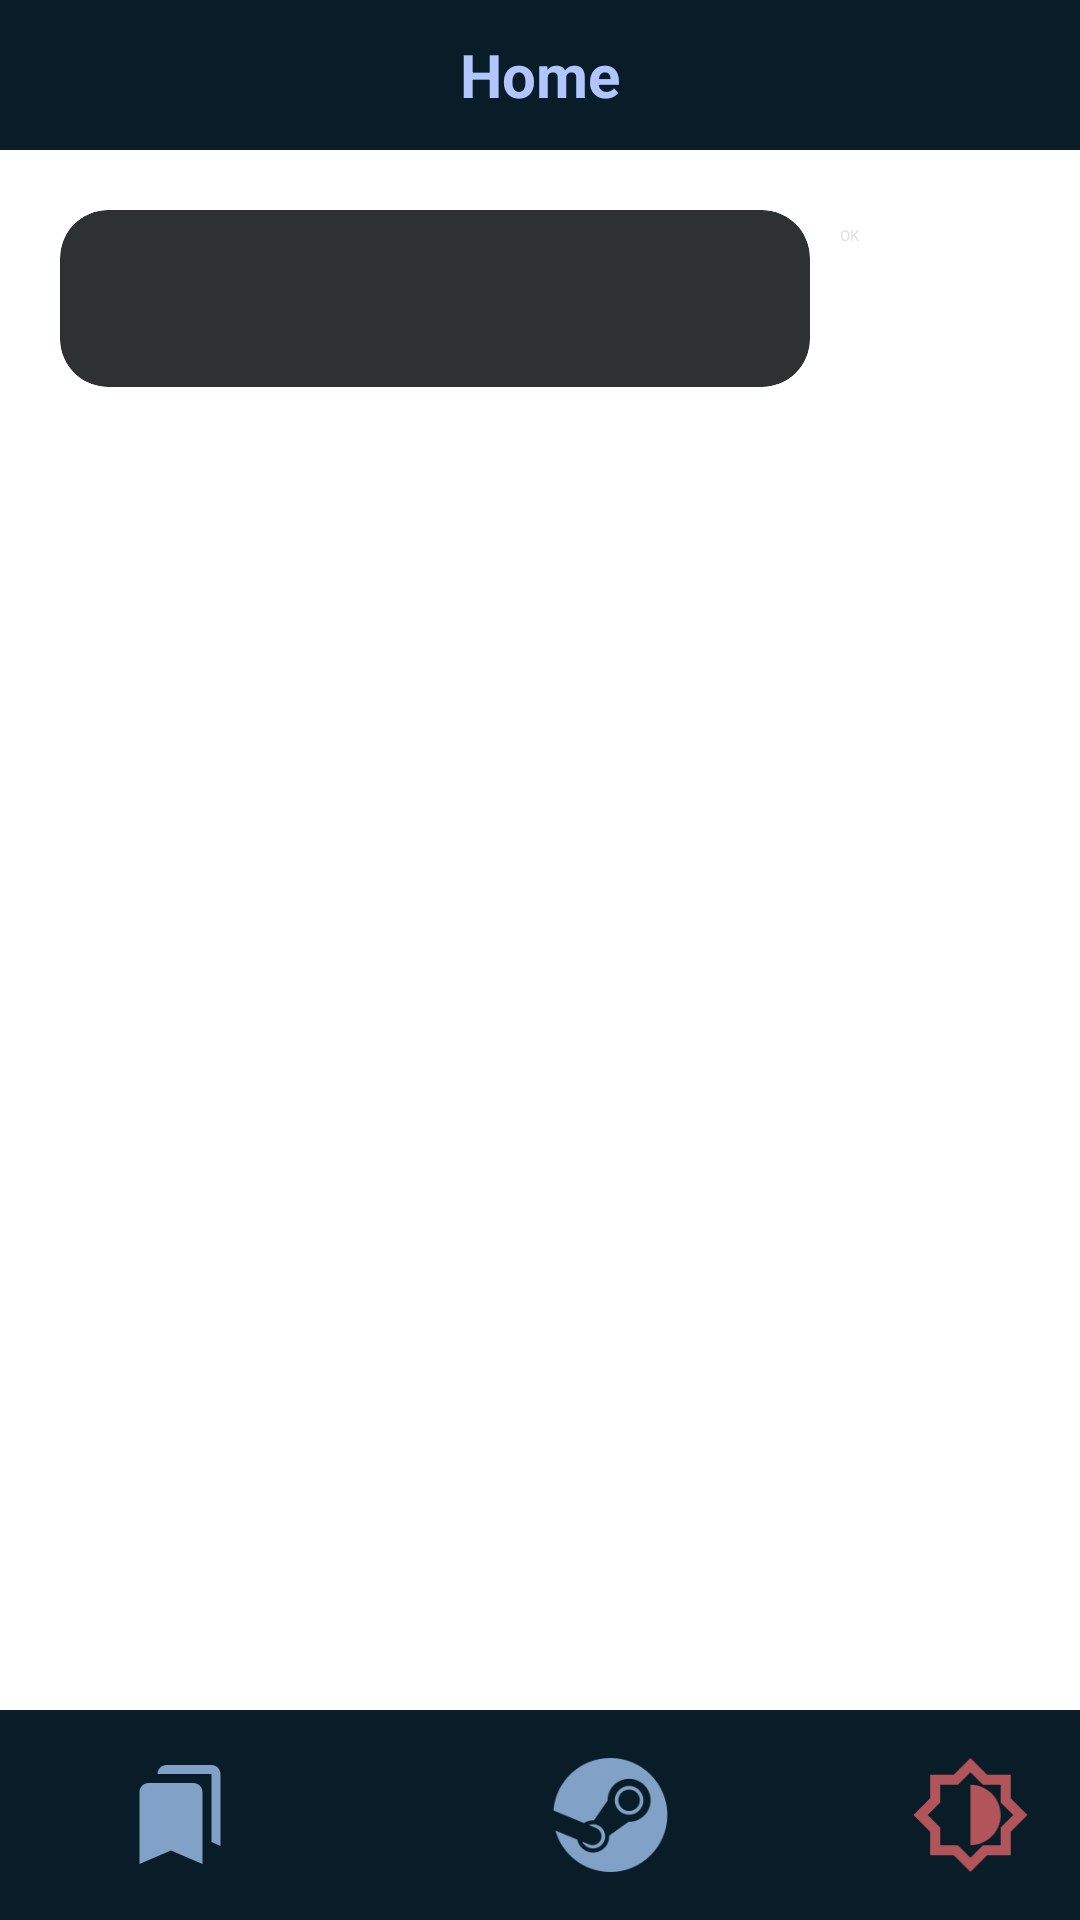

Where icons sit on this 1080px x 1920px app screen, as rect(x1, y1, x2, y2):
Fav: rect(139, 1765, 221, 1864)
Theme: rect(914, 1758, 1027, 1872)
